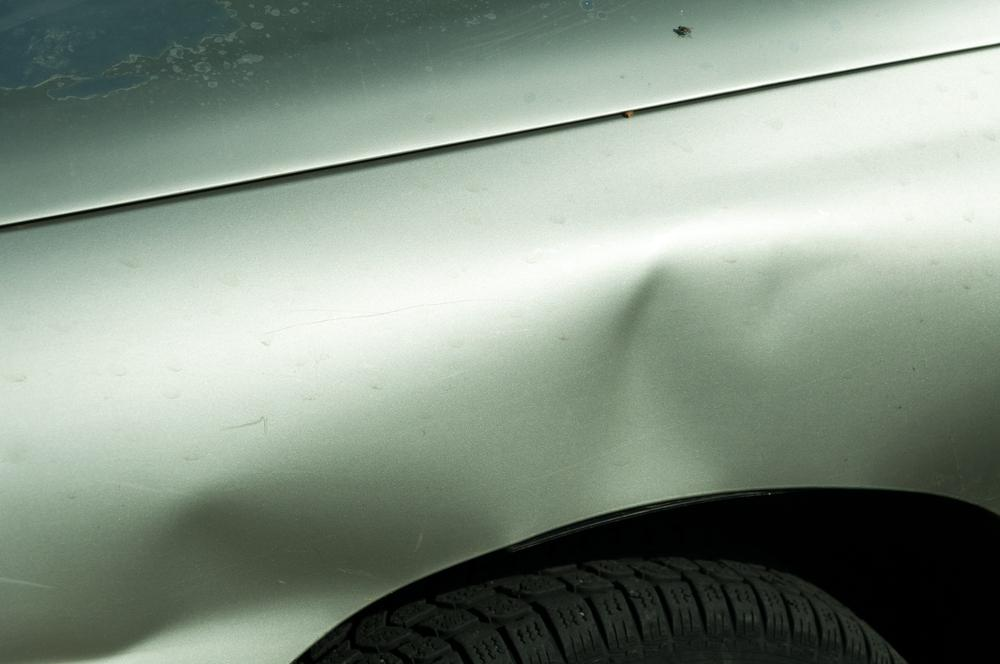dent: (0, 236, 879, 664)
